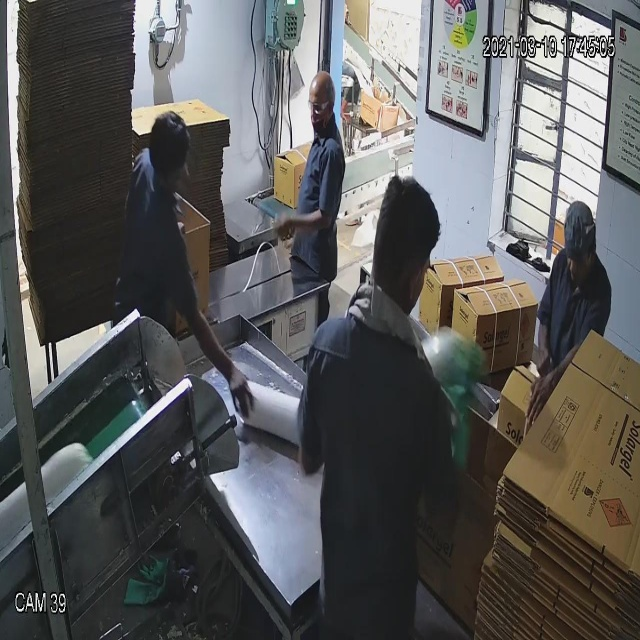Sin_guantes: (183, 289, 263, 442), (258, 176, 336, 264)
